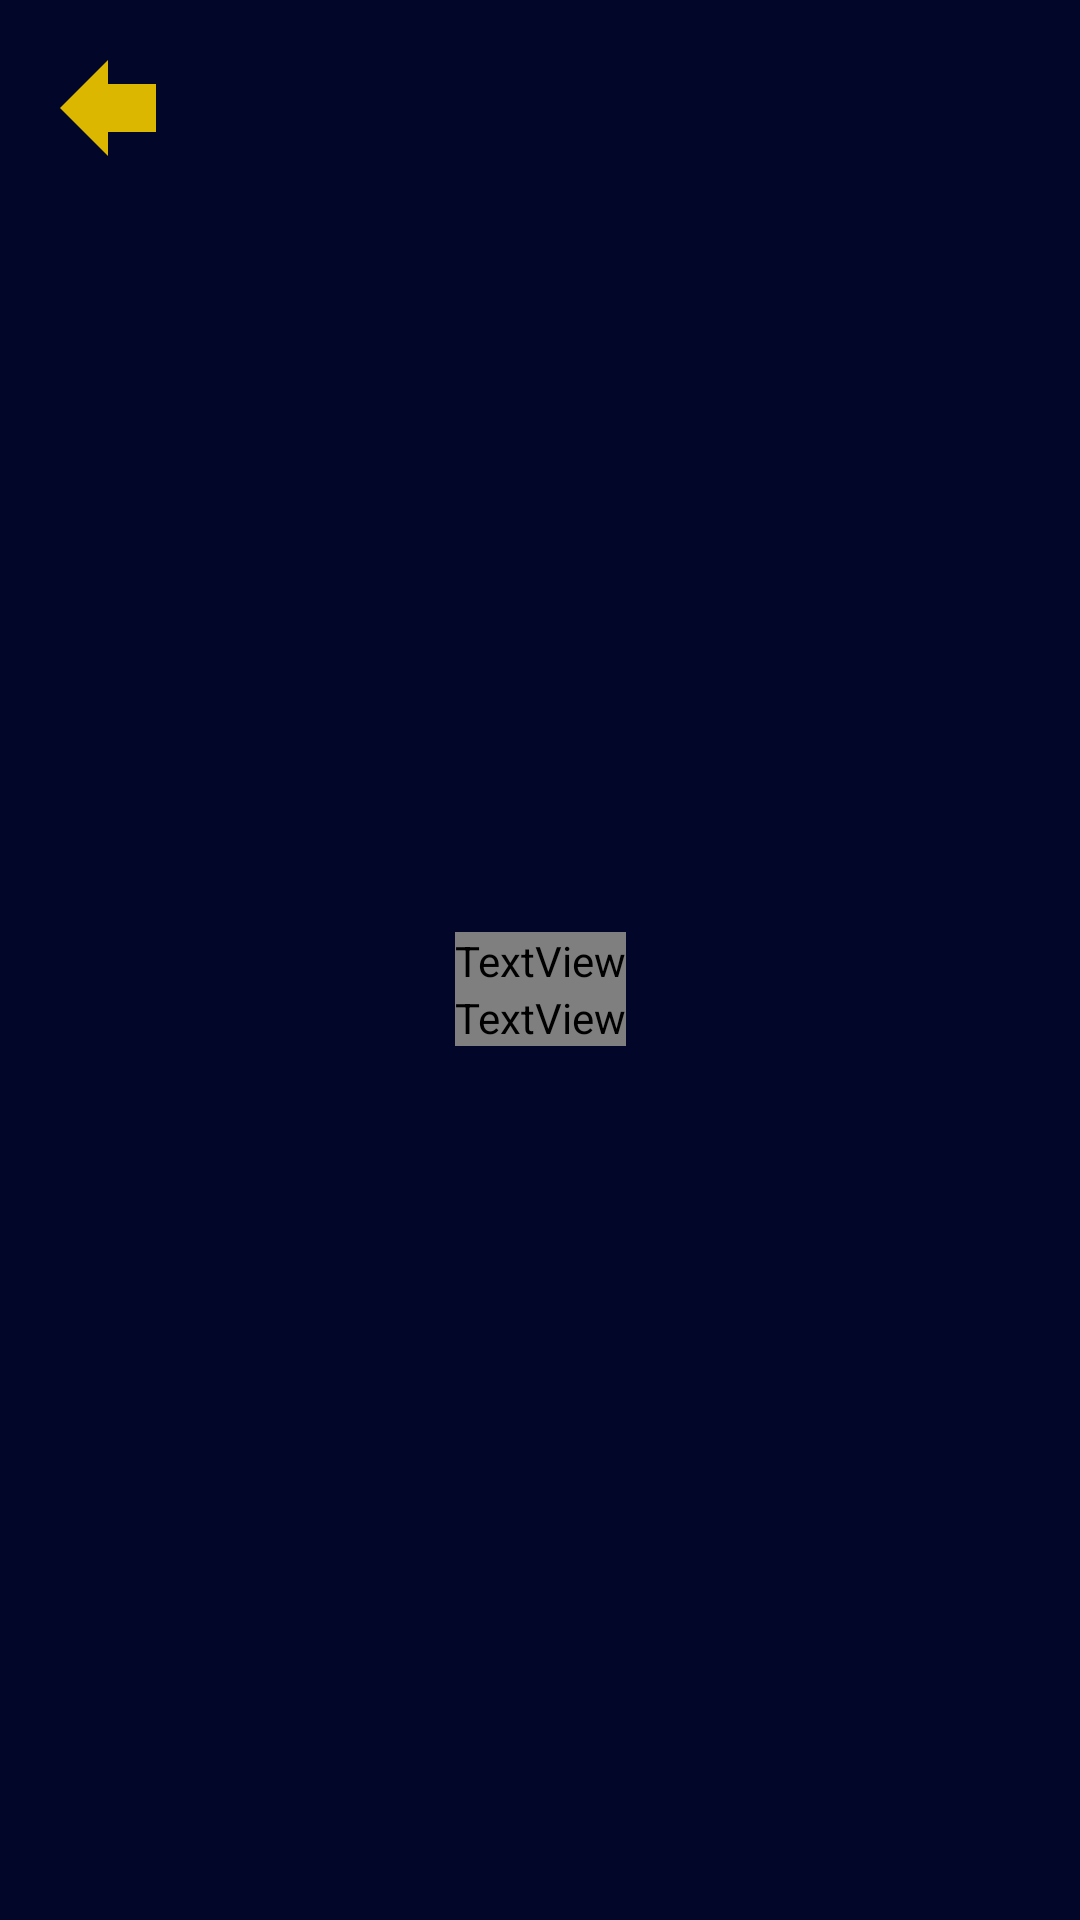

Locate icon controls on the screen. Image size 1080px×1920px, boxes as (x1, y1, x2, y2).
Go back: (60, 60, 156, 156)
